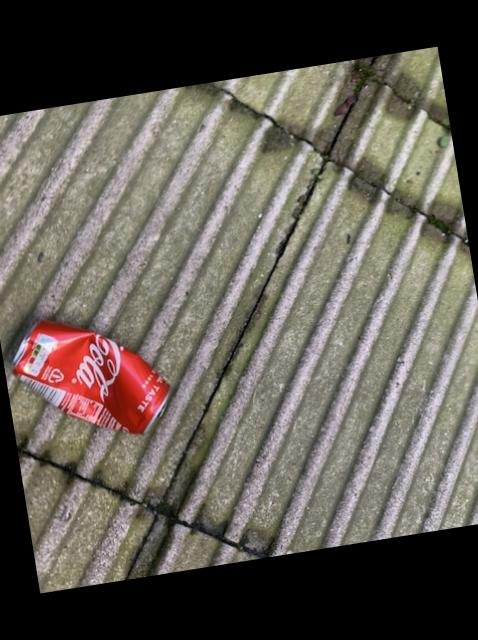metal: (11, 322, 166, 435)
